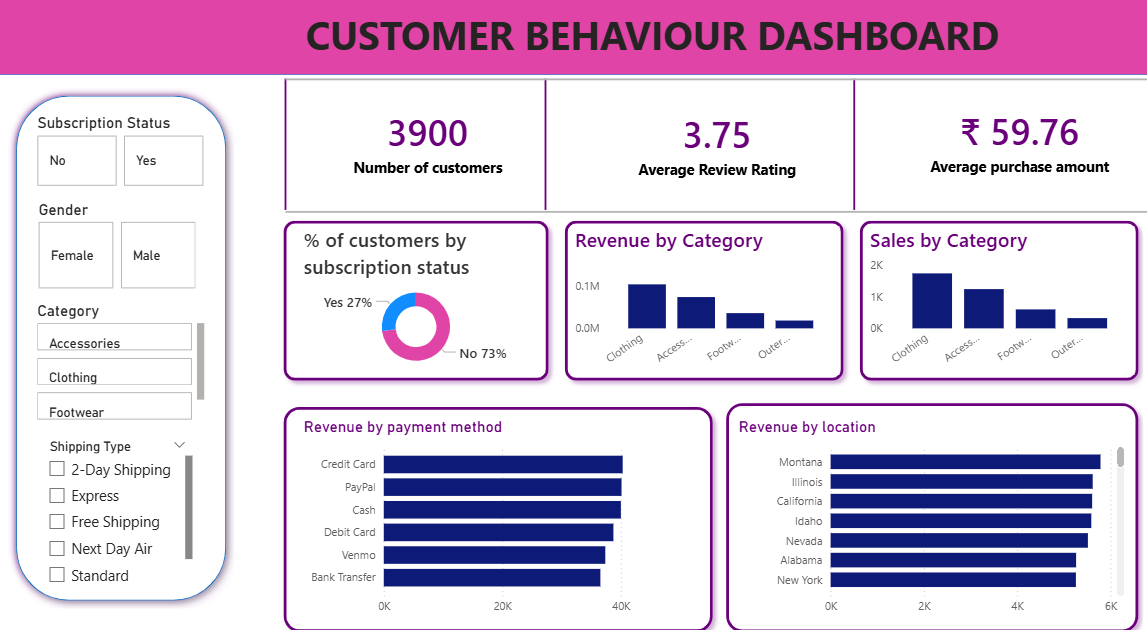

The dashboard page shown, as its layout file describes it:
{"tool":"powerbi","page":{"name":"Page 1","canvas":[1280,720],"ordinal":0},"visuals":[{"type":"card","fields":{"Values":["customer_behaviour customers.Number of customers"]},"box":[326.6,98.8,312.9,146.8],"z":0},{"type":"actionButton","box":[0,0,100,40],"z":1},{"type":"card","fields":{"Values":["customer_behaviour customers.Average Review Rating"]},"box":[650.4,112.5,300.5,123.5],"z":2},{"type":"card","fields":{"Values":["customer_behaviour customers.Average purchase amount"]},"box":[985.3,105.7,295,130.4],"z":3},{"type":"shape","box":[0,0,1280.3,98.8],"z":4},{"type":"textbox","box":[326.6,20.6,805.5,68.6],"z":5},{"type":"shape","box":[315.6,249.7,308.7,193.5],"z":6},{"type":"donutChart","title":" % of customers by subscription status","fields":{"Category":["customer_behaviour customers.Subscription Status"],"Y":["CountNonNull(customer_behaviour customers.customer_id)"]},"box":[341.7,264.8,256.6,163.3],"z":7},{"type":"shape","box":[326.6,174.3,953.7,149.6],"z":8},{"type":"shape","box":[576.3,102.9,71.4,144.1],"z":9},{"type":"shape","box":[915.3,102.9,71.4,144.1],"z":10},{"type":"shape","box":[290.9,102.9,71.4,144.1],"z":11},{"type":"shape","box":[326.6,28.8,953.7,149.6],"z":12},{"type":"shape","box":[624.4,249.7,323.8,193.5],"z":13},{"type":"shape","box":[948.2,249.7,323.8,193.5],"z":14},{"type":"clusteredColumnChart","title":"Revenue by Category","fields":{"Category":["customer_behaviour customers.Category"],"Y":["Sum(customer_behaviour customers.purchase_amount)"]},"box":[639.5,264.8,295,163.3],"z":15},{"type":"clusteredColumnChart","title":"Sales by Category","fields":{"Category":["customer_behaviour customers.Category"],"Y":["CountNonNull(customer_behaviour customers.customer_id)"]},"box":[963.3,264.8,295,163.3],"z":16},{"type":"shape","box":[22,112.5,248.4,572.2],"z":17},{"type":"advancedSlicerVisual","fields":{"Values":["customer_behaviour customers.Subscription Status"]},"box":[49.4,141.3,193.5,85.1],"z":18},{"type":"advancedSlicerVisual","fields":{"Values":["customer_behaviour customers.Gender"]},"box":[50.8,236,183.9,102.9],"z":19},{"type":"advancedSlicerVisual","fields":{"Values":["customer_behaviour customers.Category"]},"box":[49.4,347.2,193.5,135.8],"z":20},{"type":"slicer","fields":{"Values":["customer_behaviour customers.Shipping Type"]},"box":[54.9,492.6,174.3,170.2],"z":22},{"type":"shape","box":[315,454.7,488.9,265.1],"z":24},{"type":"clusteredBarChart","title":"Revenue by payment method","fields":{"Y":["Sum(customer_behaviour customers.purchase_amount)"],"Category":["customer_behaviour customers.Payment Method"]},"box":[342.1,474.7,433.3,225.2],"z":25},{"type":"shape","box":[801.1,450.4,470.4,269.4],"z":26},{"type":"clusteredBarChart","title":"Revenue by location","fields":{"Y":["Sum(customer_behaviour customers.purchase_amount)"],"Category":["customer_behaviour customers.Location"]},"box":[819.6,474.7,433.3,225.2],"z":27}]}

Visuals, with their boxes in screenshot pixels (x1, y1, x2, y2), scaled from the page's 1280x720 canvas onto the 1147x630 screenshot:
card - customer_behaviour customers.Number of customers: (293, 86, 573, 215)
actionButton: (0, 0, 90, 35)
card - customer_behaviour customers.Average Review Rating: (583, 98, 852, 206)
card - customer_behaviour customers.Average purchase amount: (883, 92, 1146, 207)
shape: (0, 0, 1146, 86)
textbox: (293, 18, 1014, 78)
shape: (283, 218, 559, 388)
" % of customers by subscription status" donutChart: (306, 232, 536, 375)
shape: (293, 153, 1146, 283)
shape: (516, 90, 580, 216)
shape: (820, 90, 884, 216)
shape: (261, 90, 325, 216)
shape: (293, 25, 1146, 156)
shape: (560, 218, 850, 388)
shape: (850, 218, 1140, 388)
"Revenue by Category" clusteredColumnChart: (573, 232, 837, 375)
"Sales by Category" clusteredColumnChart: (863, 232, 1128, 375)
shape: (20, 98, 242, 599)
advancedSlicerVisual - customer_behaviour customers.Subscription Status: (44, 124, 218, 198)
advancedSlicerVisual - customer_behaviour customers.Gender: (46, 206, 210, 297)
advancedSlicerVisual - customer_behaviour customers.Category: (44, 304, 218, 423)
slicer - customer_behaviour customers.Shipping Type: (49, 431, 205, 580)
shape: (282, 398, 720, 629)
"Revenue by payment method" clusteredBarChart: (307, 415, 695, 612)
shape: (718, 394, 1139, 629)
"Revenue by location" clusteredBarChart: (734, 415, 1123, 612)
